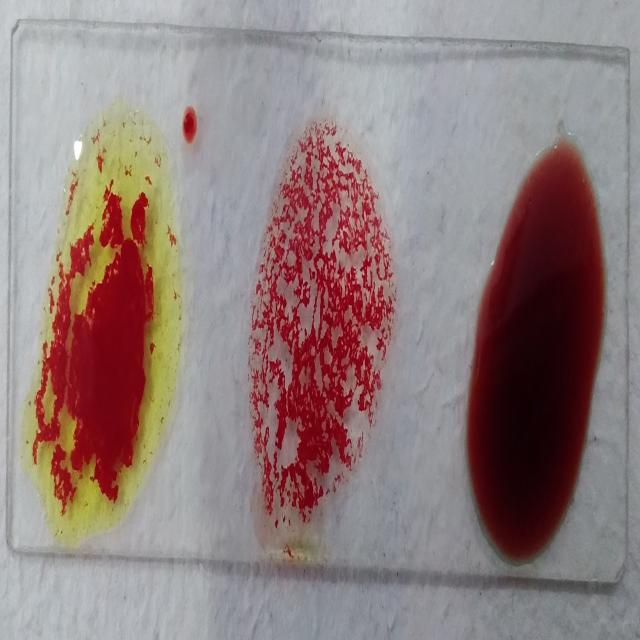B: (23, 104, 179, 546)
D: (246, 109, 396, 538)
